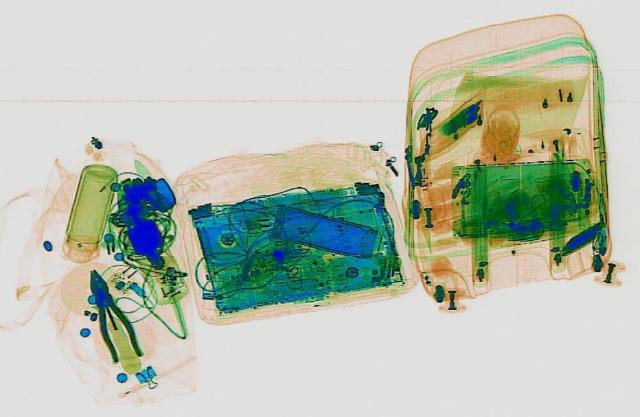Pliers: (75, 267, 145, 362)
